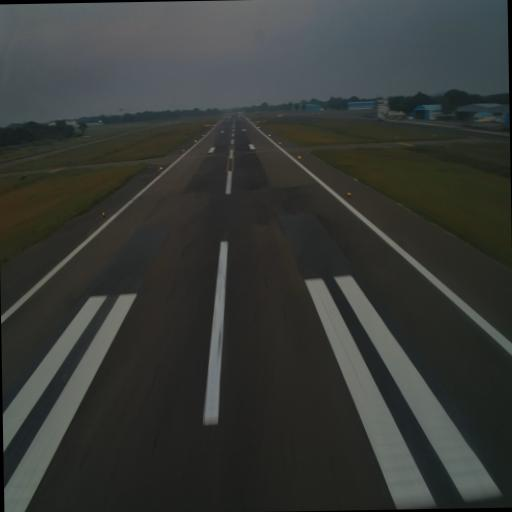on: (346, 188, 353, 198), (101, 208, 106, 217), (296, 154, 302, 161), (158, 166, 164, 172)
